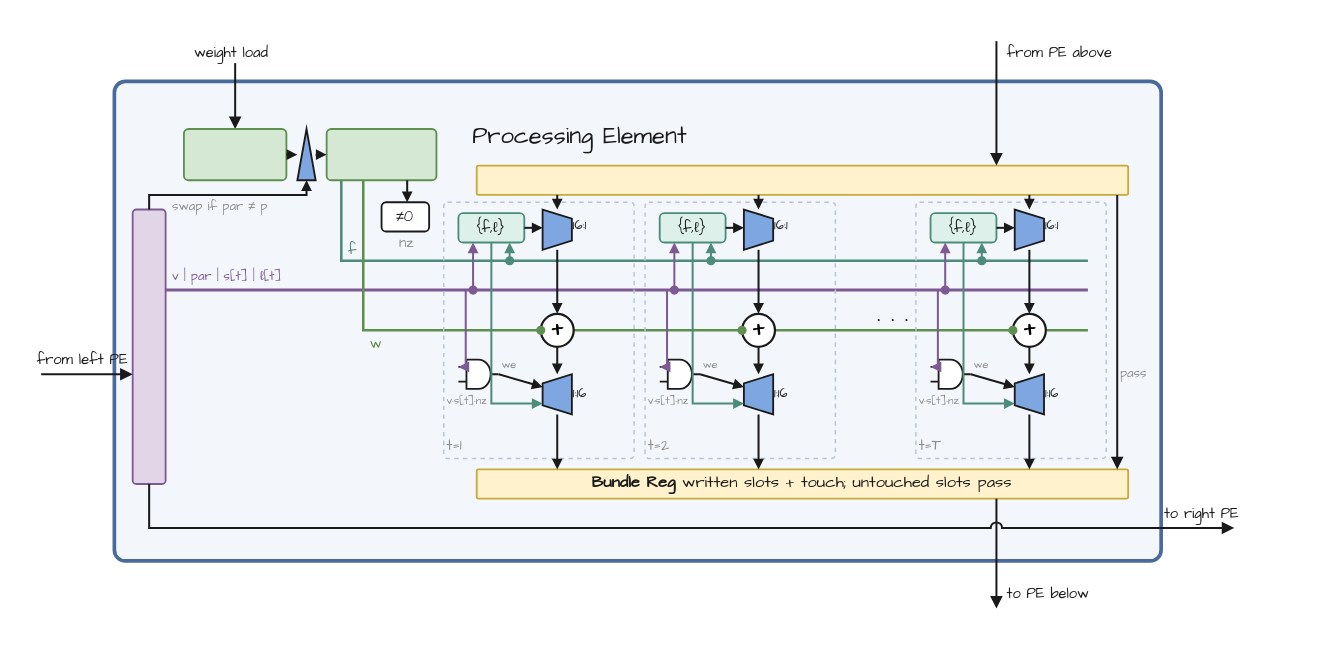
The diagram is 1325 pixels wide and 653 high, and some of its shapes have lost their labels. The centre of each missing label's shape, as x and y in pixels:
Active w | f | p: [380,153]
Bundle In 16 slots × T sums (10 b) + 16 touch bits: [801,179]
Row Reg: [148,346]
Shadow w | f | p: [234,153]
